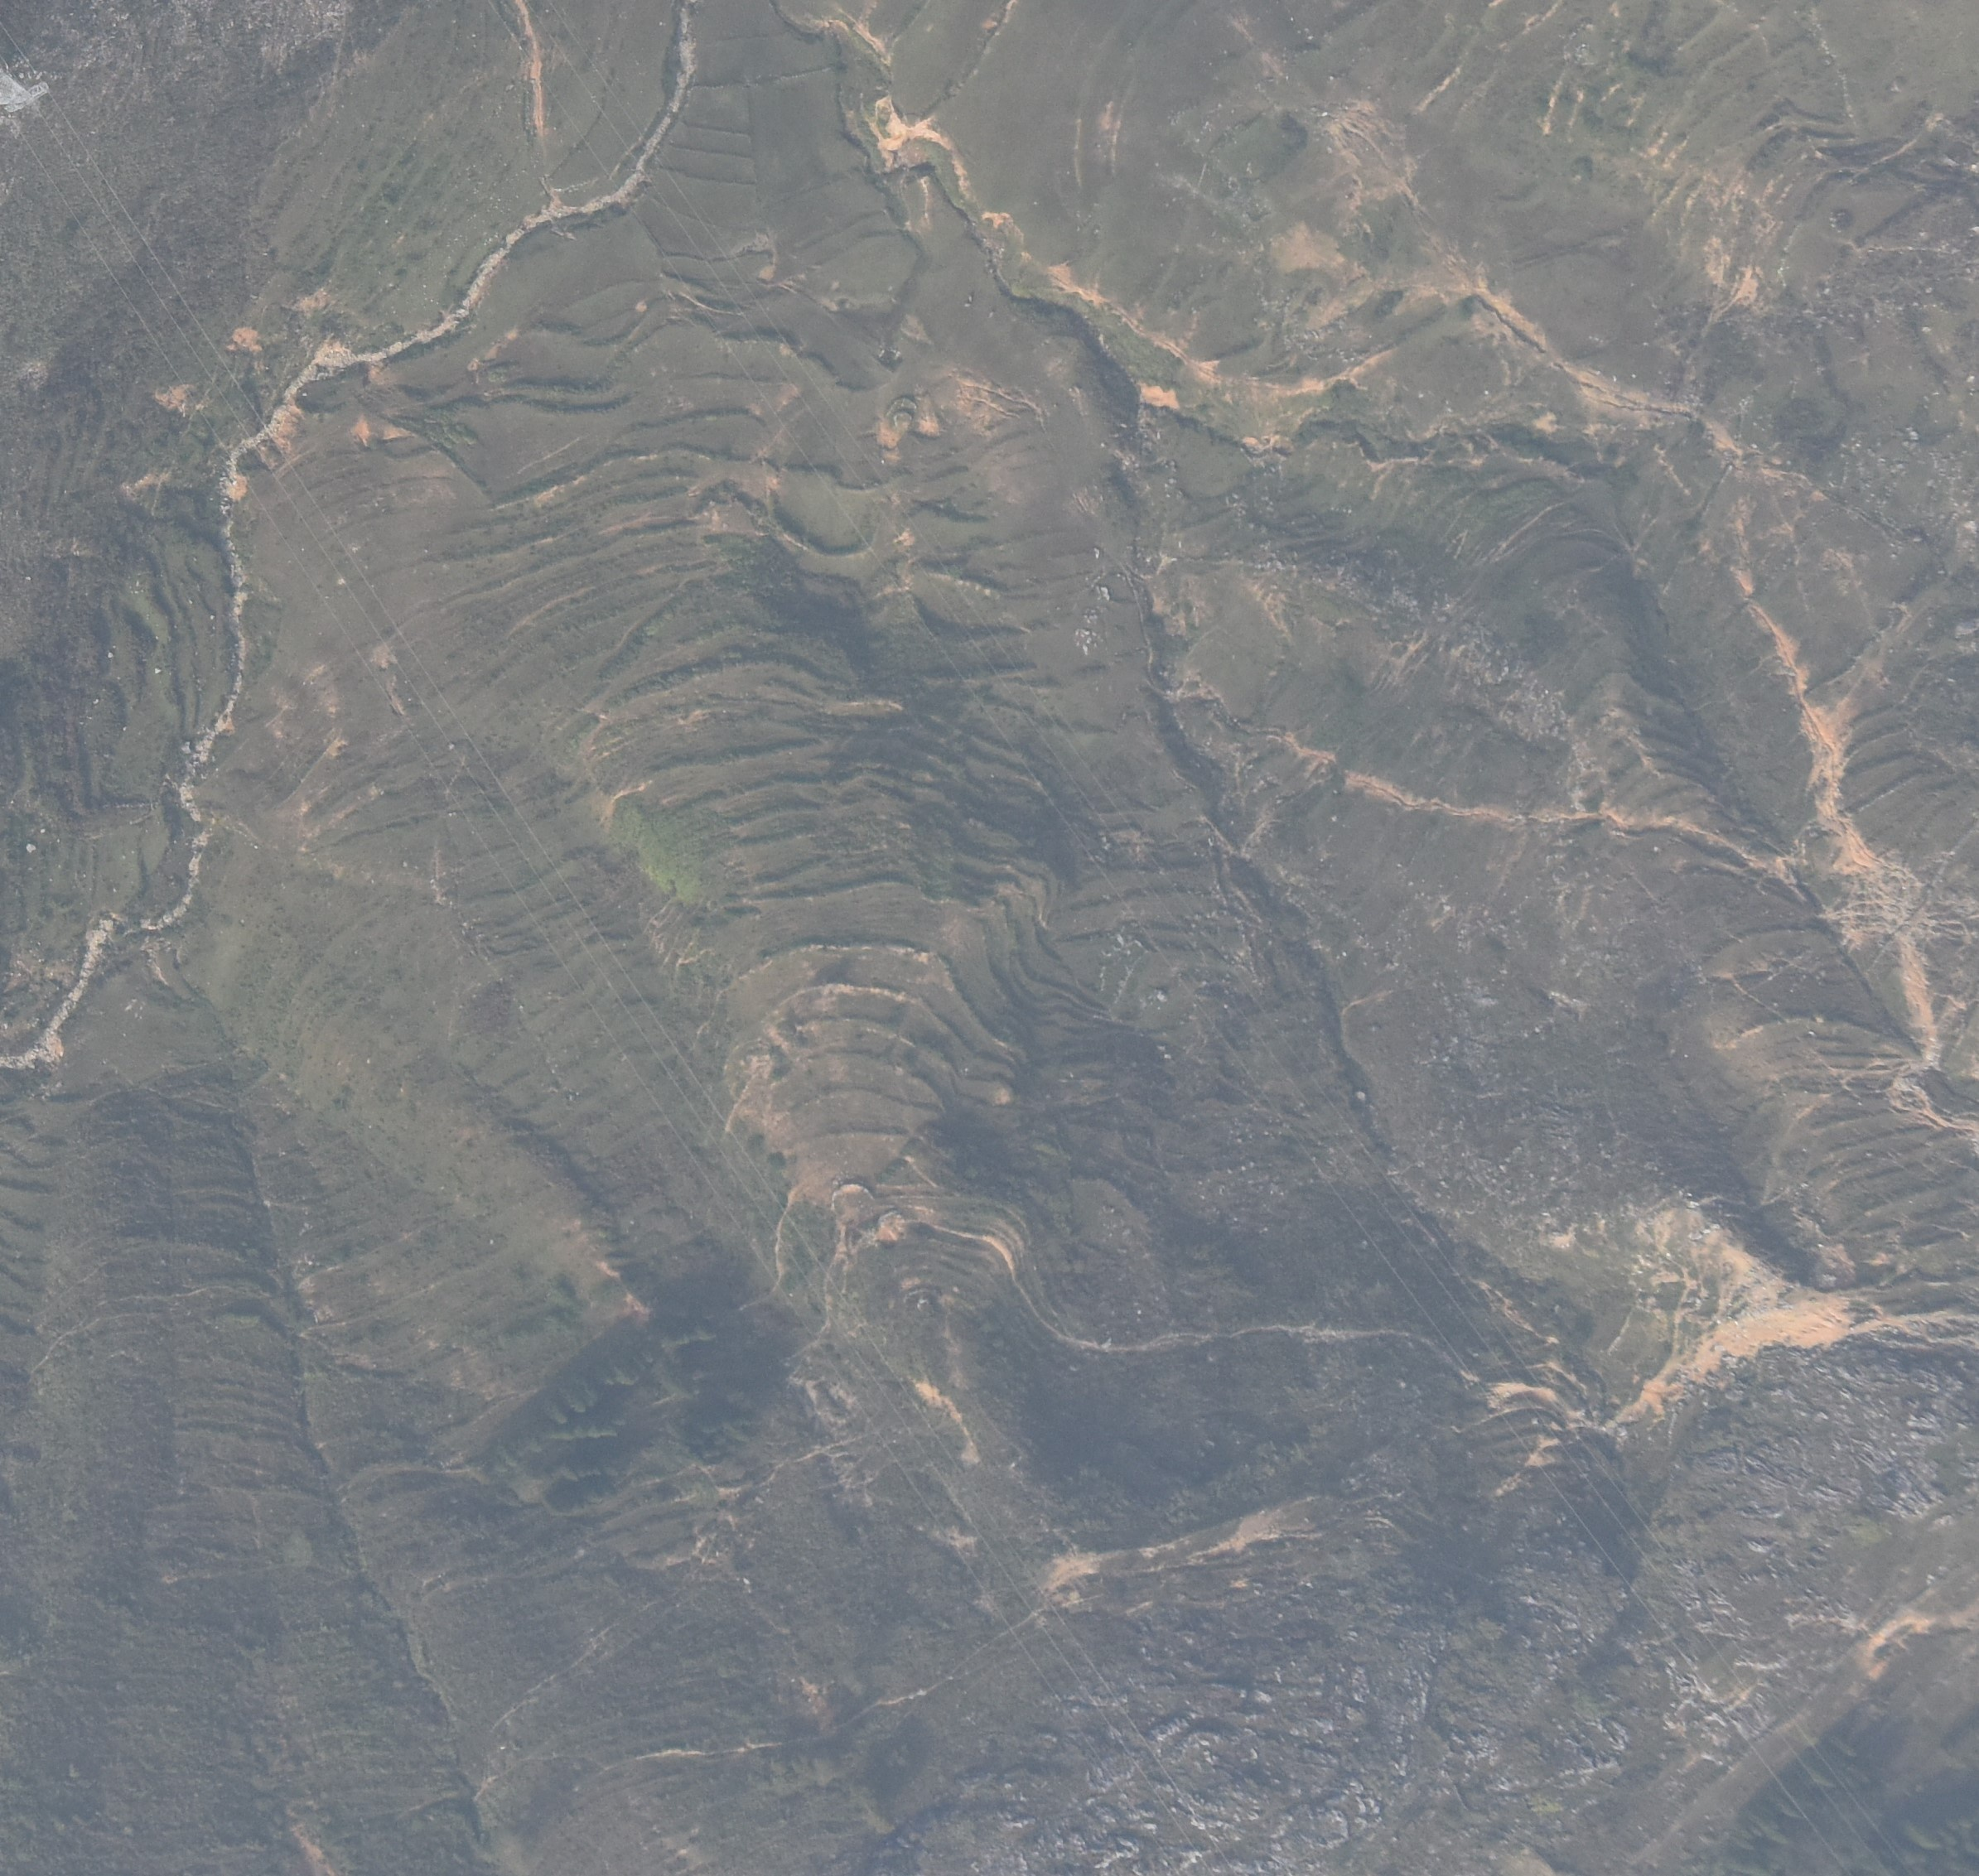cable-tower: (0, 62, 49, 116)
landslide: (1614, 1291, 1850, 1419)
